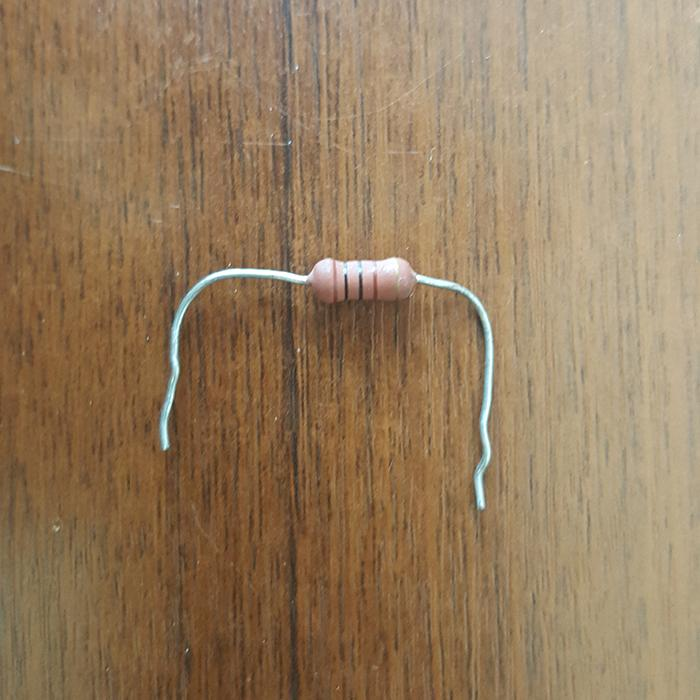resistor: (307, 255, 418, 302)
